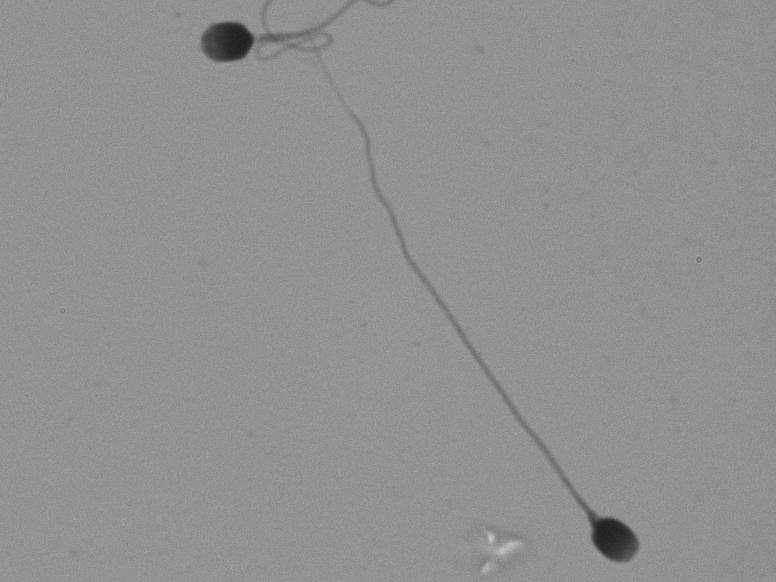Normal: (268, 76, 698, 570), (158, 3, 362, 91)
